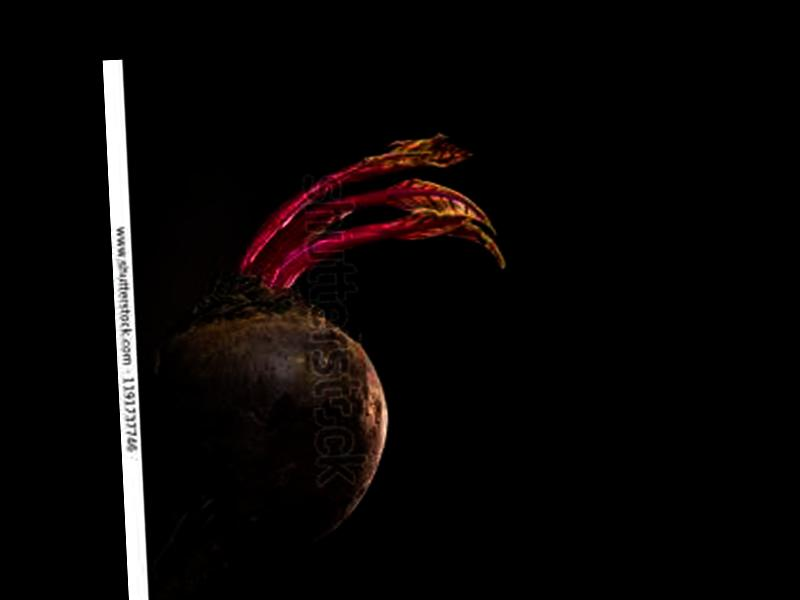Beet: (128, 131, 522, 600)
